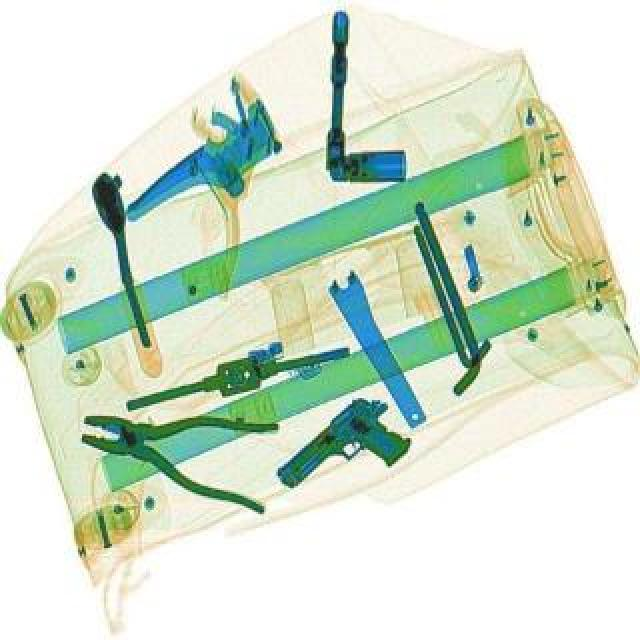gun: (270, 382, 422, 522)
wrench: (70, 384, 286, 512)
